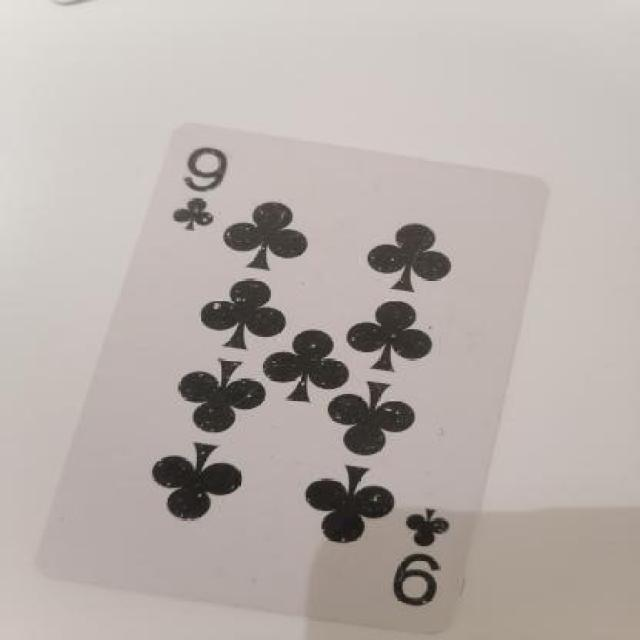9C: (380, 501, 472, 616), (162, 135, 260, 240)
